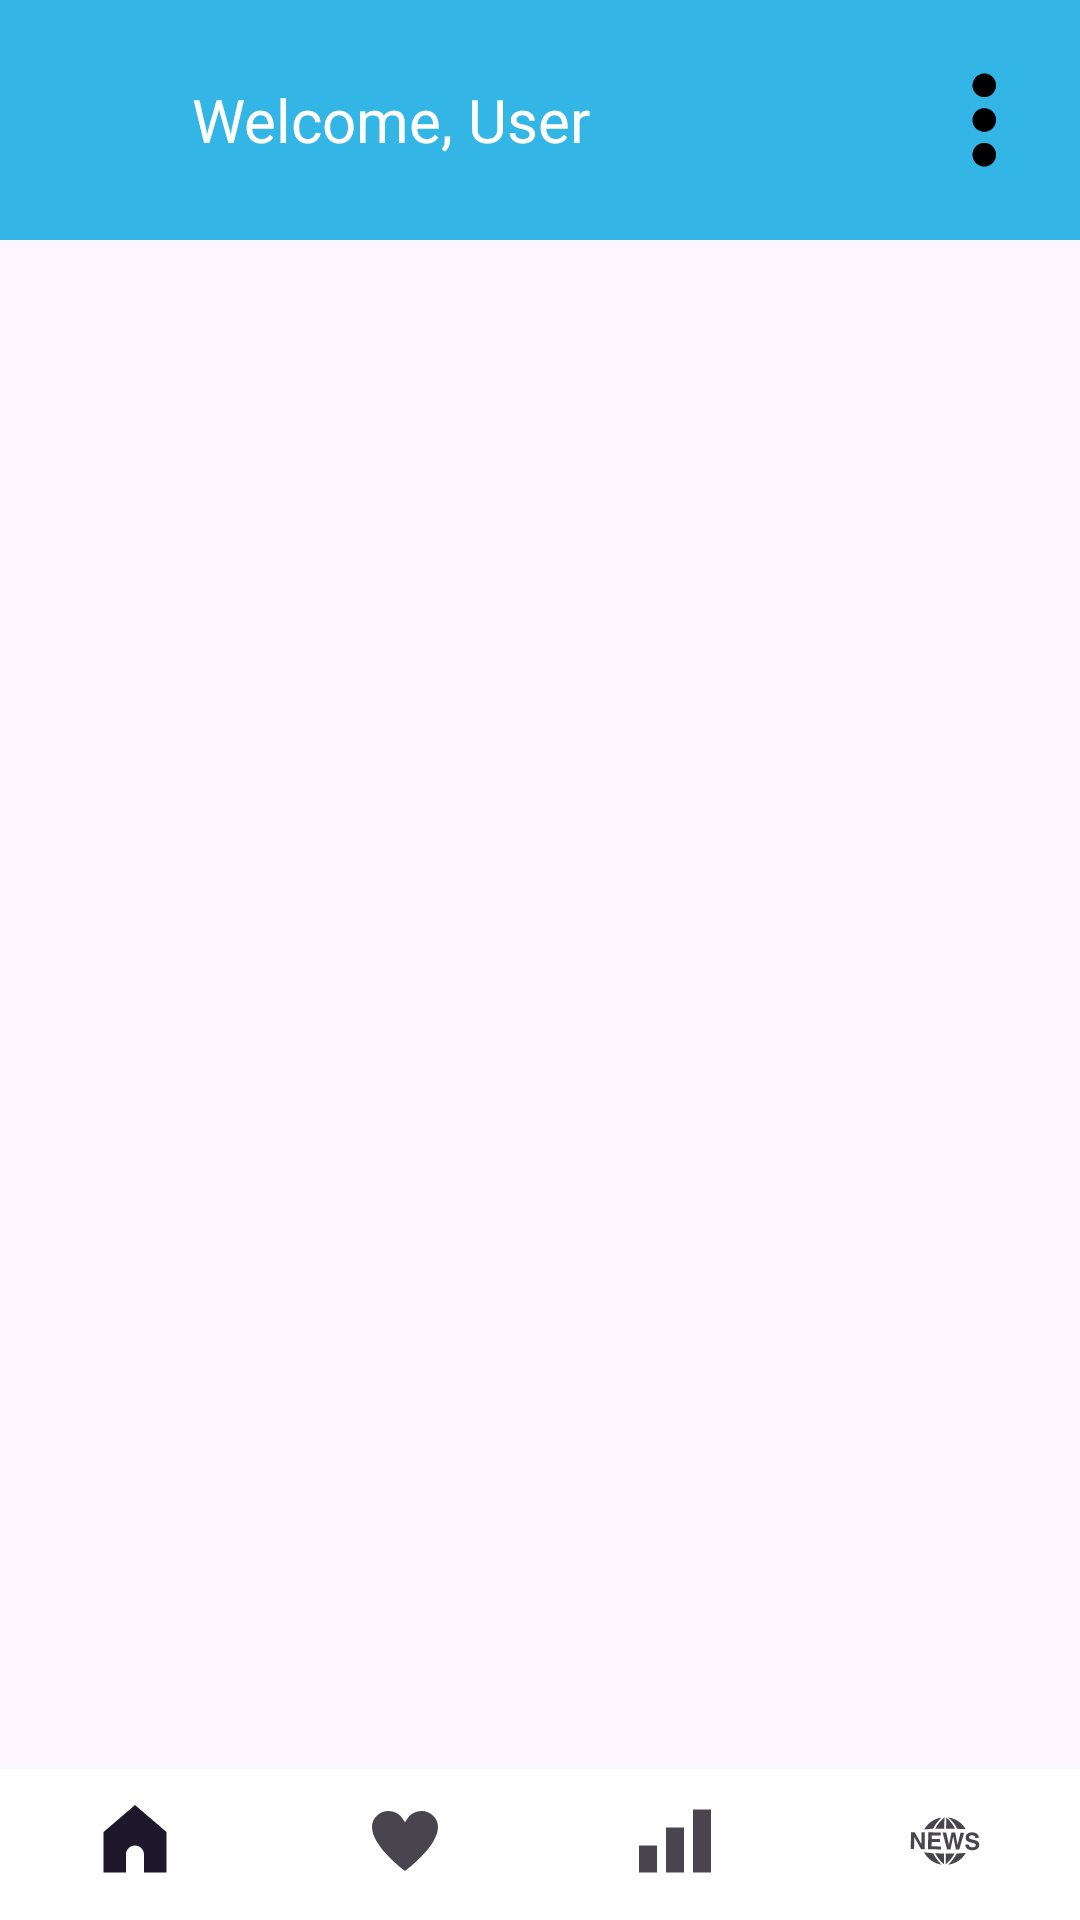

Icons on this 1080 x 1920 Android screen, each with the point to tap as point (x, y):
options vertical: point (984, 120)
